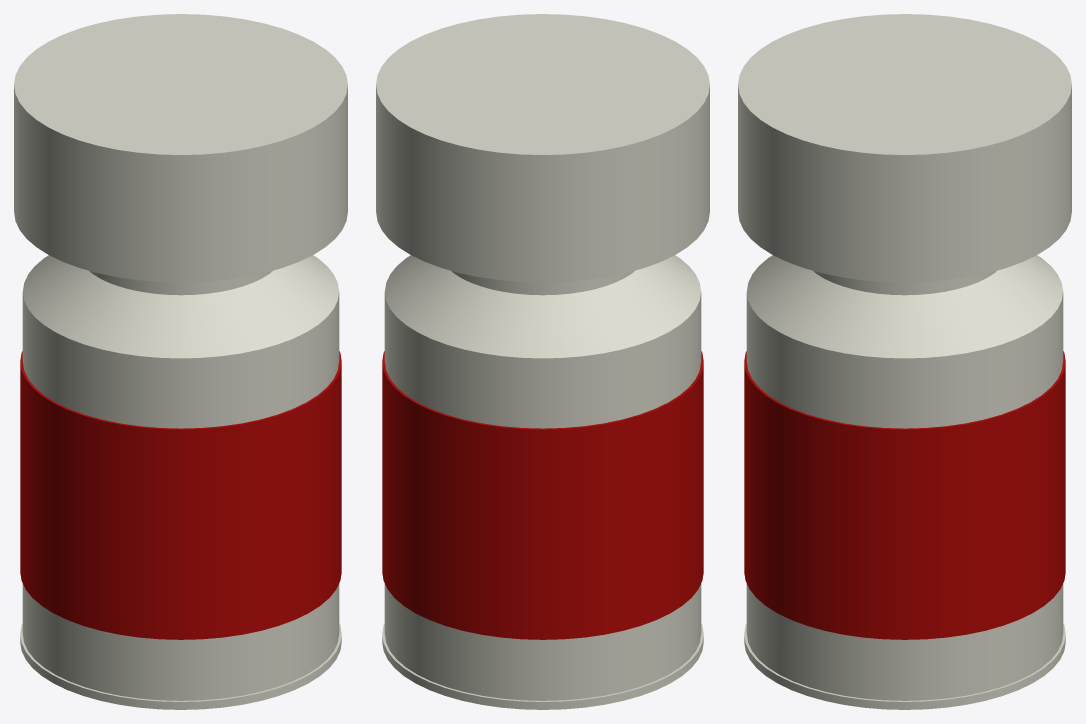
Rendered from painkillers.glb.
The picture shows the model from 3 angles, left to right: view 1: azimuth 30°, elevation 25°; view 2: azimuth 150°, elevation 25°; view 3: azimuth 270°, elevation 25°; orthographic projection.
Visible parts, largest first — view 1: body:vessel; view 2: body:vessel; view 3: body:vessel.
Boxes of the visible parts, box(x1,y1,x2,y2) form: body:vessel: box(14, 14, 347, 709); body:vessel: box(376, 14, 709, 709); body:vessel: box(738, 14, 1071, 709).
Size of the model in its own units: 0.038 by 0.07 by 0.038.
